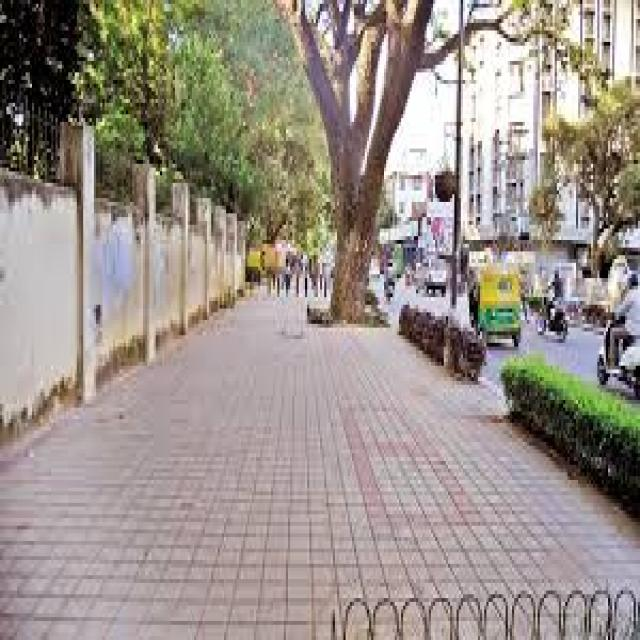tree ahead at: (313, 77, 397, 320)
